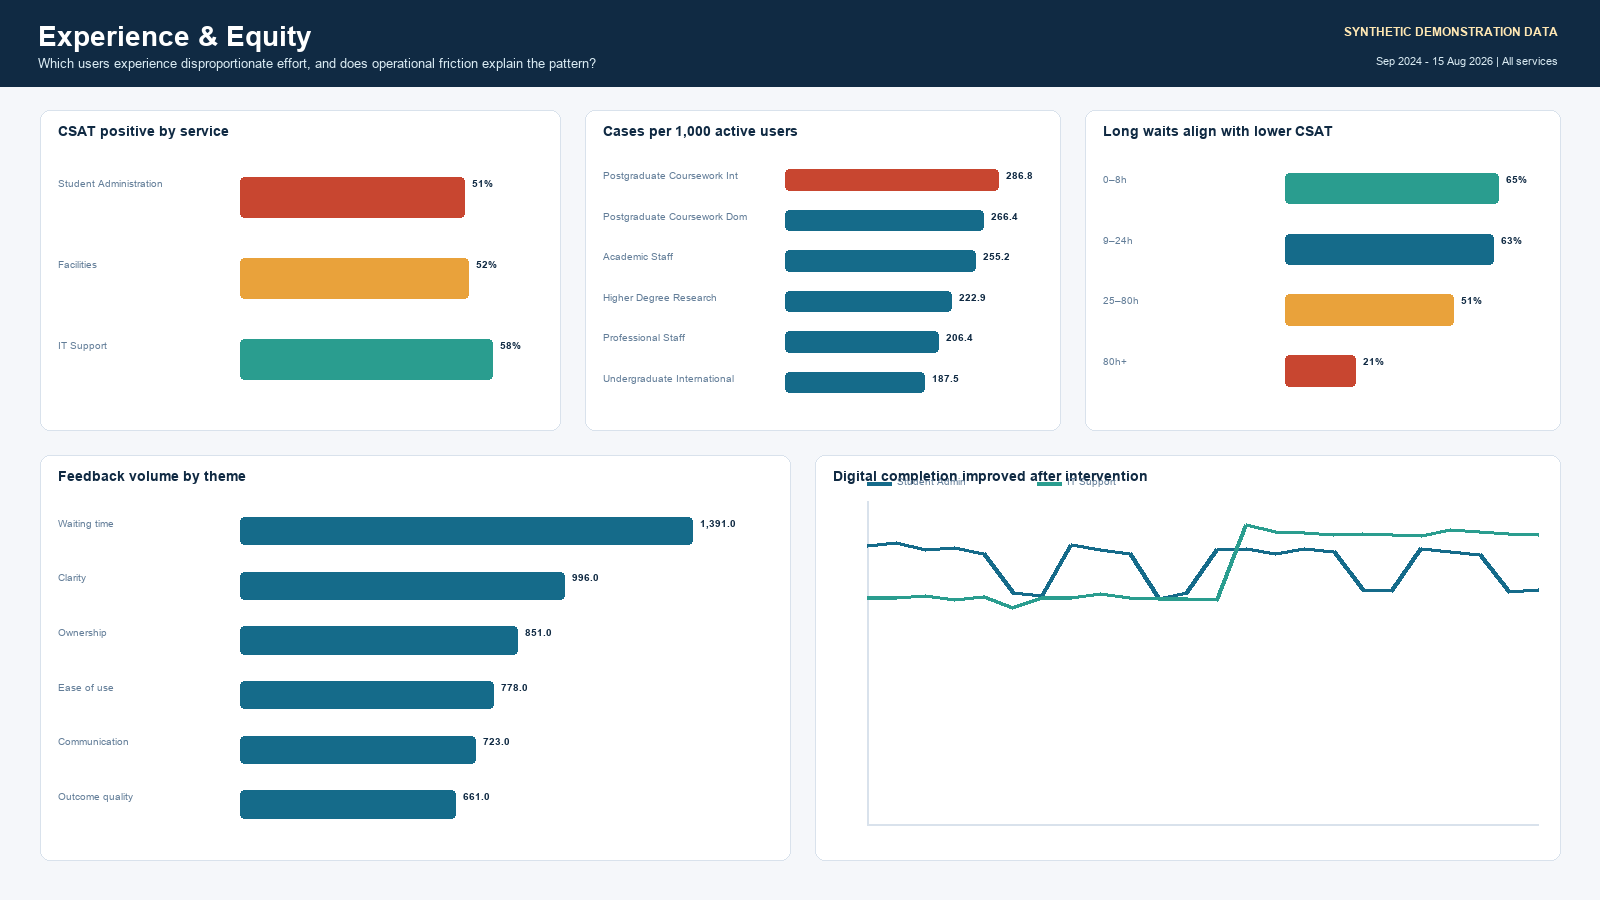

Layout of this report page (visuals, bound fields, positions):
{"tool":"powerbi","page":{"name":"Experience & Equity","canvas":[1920,1080],"ordinal":2},"visuals":[{"type":"lineChart","title":"Monthly CSAT positive (left axis) and customer effort score (right axis)","fields":{"Y":["_Measures.Display CSAT %"],"Y2":["_Measures.Average Customer Effort"],"Category":["DimDate.month_start"]},"box":[15,90,940,470],"z":0},{"type":"pivotTable","title":"Cases per 1,000 active users by cohort and lifecycle stage","fields":{"Rows":["DimCohort.cohort_name"],"Values":["_Measures.Display Cases per 1,000"],"Columns":["DimLifecycleStage.lifecycle_stage"]},"box":[15,575,620,490],"z":1000},{"type":"clusteredColumnChart","title":"CSAT falls as resolution time grows (post-case surveys)","fields":{"Category":["FactFeedback.resolution_time_band"],"Y":["_Measures.CSAT Positive %"]},"box":[965,90,940,470],"z":2000},{"type":"barChart","title":"Feedback themes by respondent type (responses)","fields":{"Category":["FactFeedback.feedback_theme"],"Y":["CountNonNull(FactFeedback.feedback_id)"],"Series":["FactFeedback.respondent_type"]},"box":[650,575,620,490],"z":3000},{"type":"lineChart","title":"Self-service completion vs 14-day repeat contact","fields":{"Y":["_Measures.Self Service Completion %","_Measures.Repeat Contact 14D %"],"Category":["DimDate.month_start"]},"box":[1285,575,620,490],"z":4000},{"type":"textbox","box":[15,10,1150,70],"z":4001},{"type":"slicer","fields":{"Values":["DimService.service_name"]},"box":[1210,5,340,80],"z":4002},{"type":"slicer","fields":{"Values":["DimCampus.campus_name"]},"box":[1565,5,340,80],"z":4003}]}

Visuals, with their boxes in screenshot pixels (x1, y1, x2, y2), scaled from the page's 1920x1080 canvas onto the 1600x900 screenshot:
"Monthly CSAT positive (left axis) and customer effort score (right axis)" lineChart: locate(12, 75, 796, 467)
"Cases per 1,000 active users by cohort and lifecycle stage" pivotTable: locate(12, 479, 529, 888)
"CSAT falls as resolution time grows (post-case surveys)" clusteredColumnChart: locate(804, 75, 1588, 467)
"Feedback themes by respondent type (responses)" barChart: locate(542, 479, 1058, 888)
"Self-service completion vs 14-day repeat contact" lineChart: locate(1071, 479, 1588, 888)
textbox: locate(12, 8, 971, 67)
slicer - DimService.service_name: locate(1008, 4, 1292, 71)
slicer - DimCampus.campus_name: locate(1304, 4, 1588, 71)
